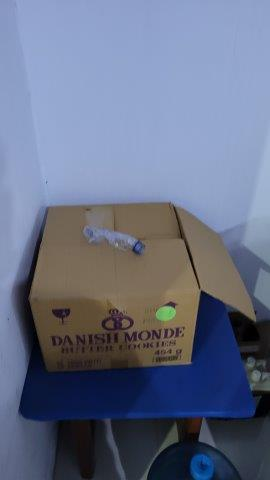botolplastik: (81, 222, 146, 254)
